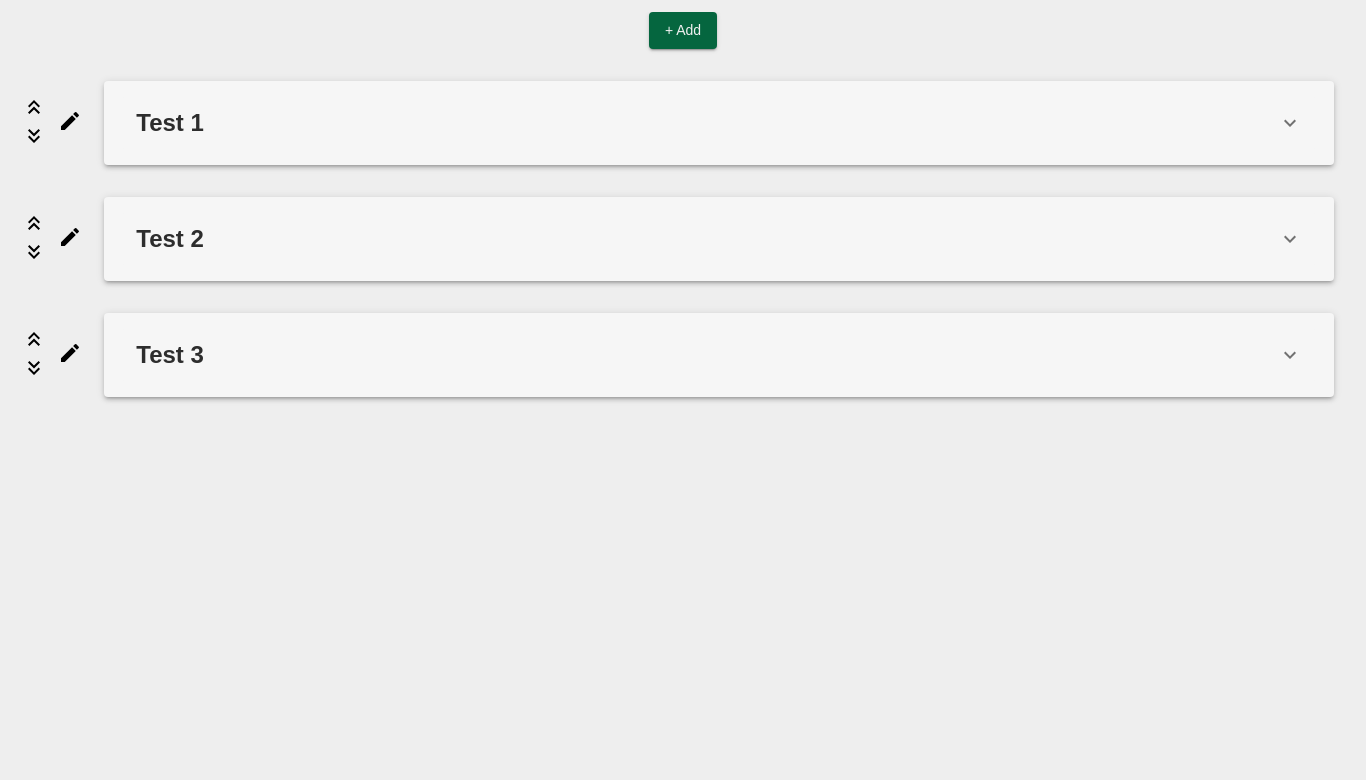
Test case: Wiki items component › adds an item with contents by an admin or a manager
Click the button with test id "#add". click: (683, 30)
box: 649,12 -> 717,48
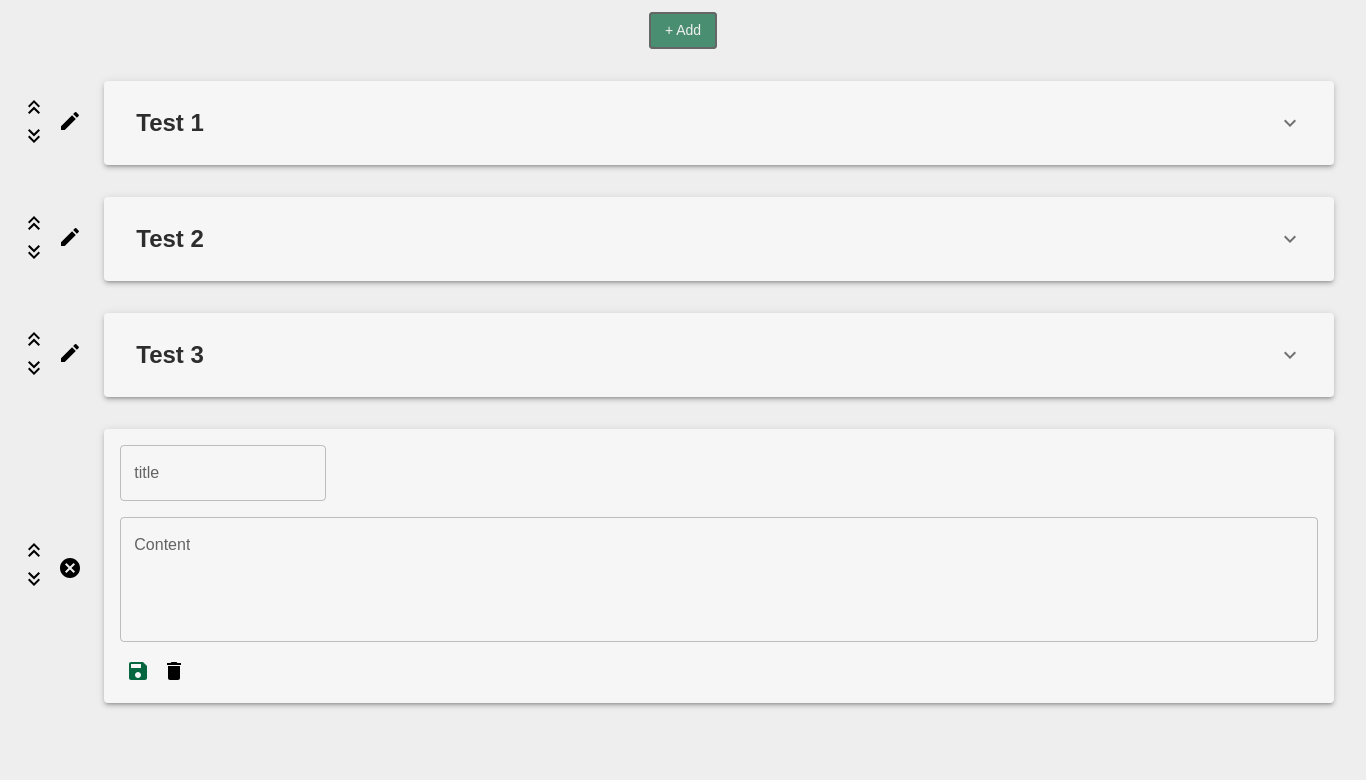
Type "Added test title" into the field with test id "#title-4". click: (223, 472)
box: 120,444 -> 326,500
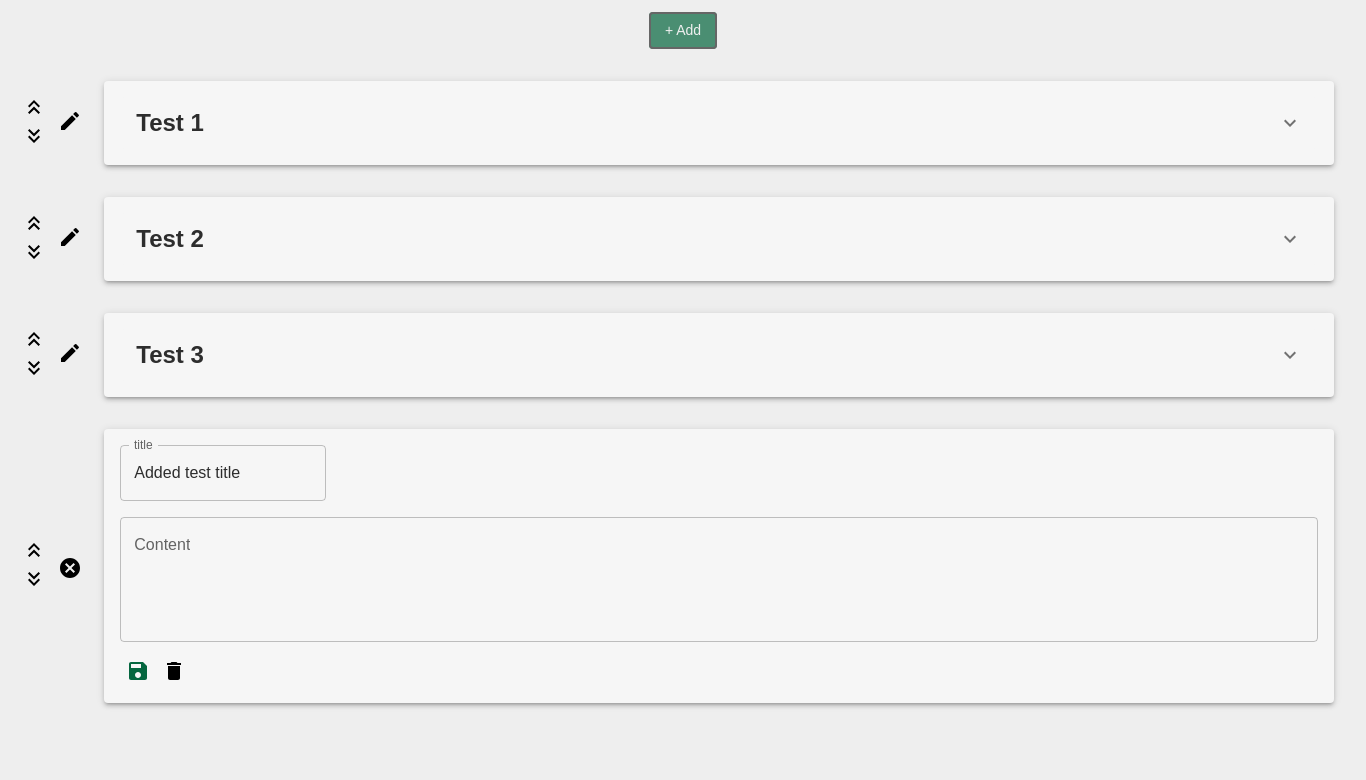
Type "Added test content" into the text box with test id "#content-4". click: (719, 579)
box: 134,533 -> 1304,625
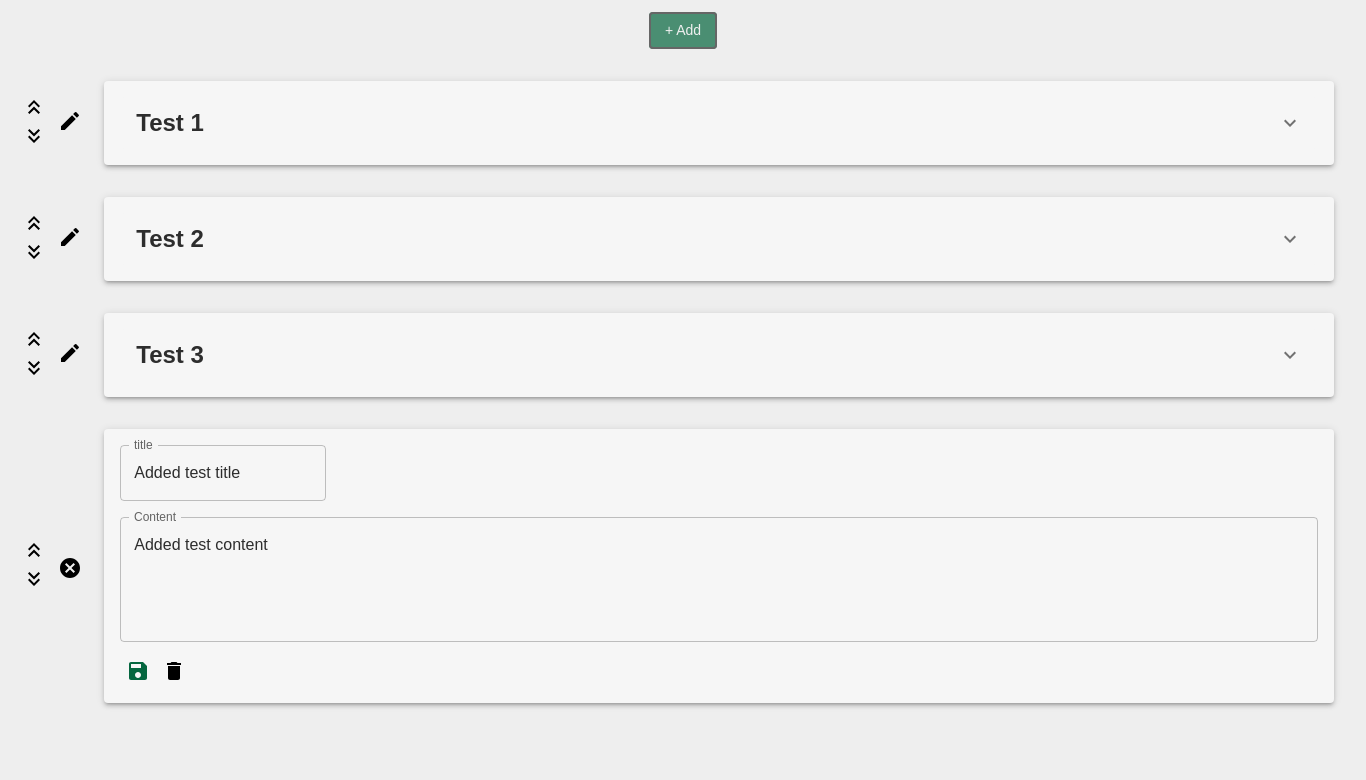
Click the button with test id "#update-4". click: (138, 672)
box: 120,658 -> 156,686
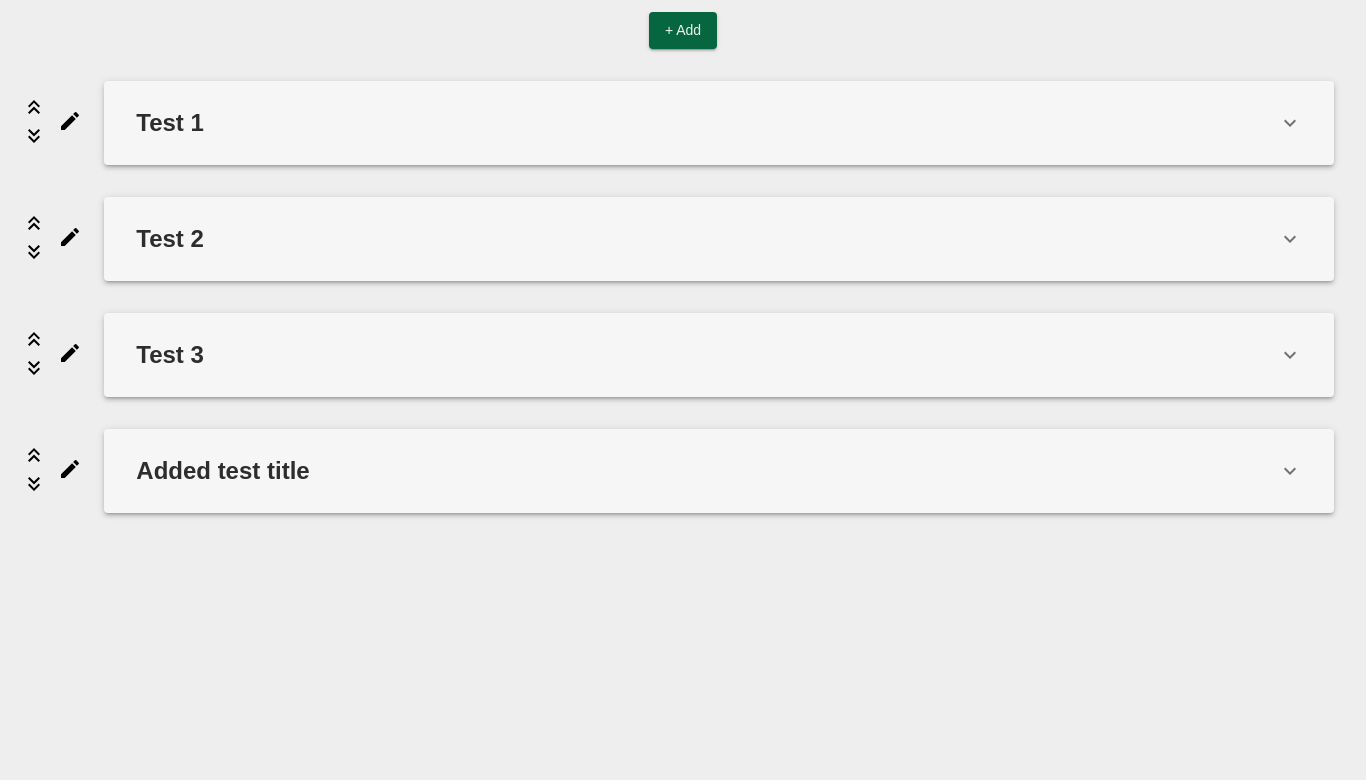
Expected: the heading "Added test title" is shown, 136,456 -> 310,484
